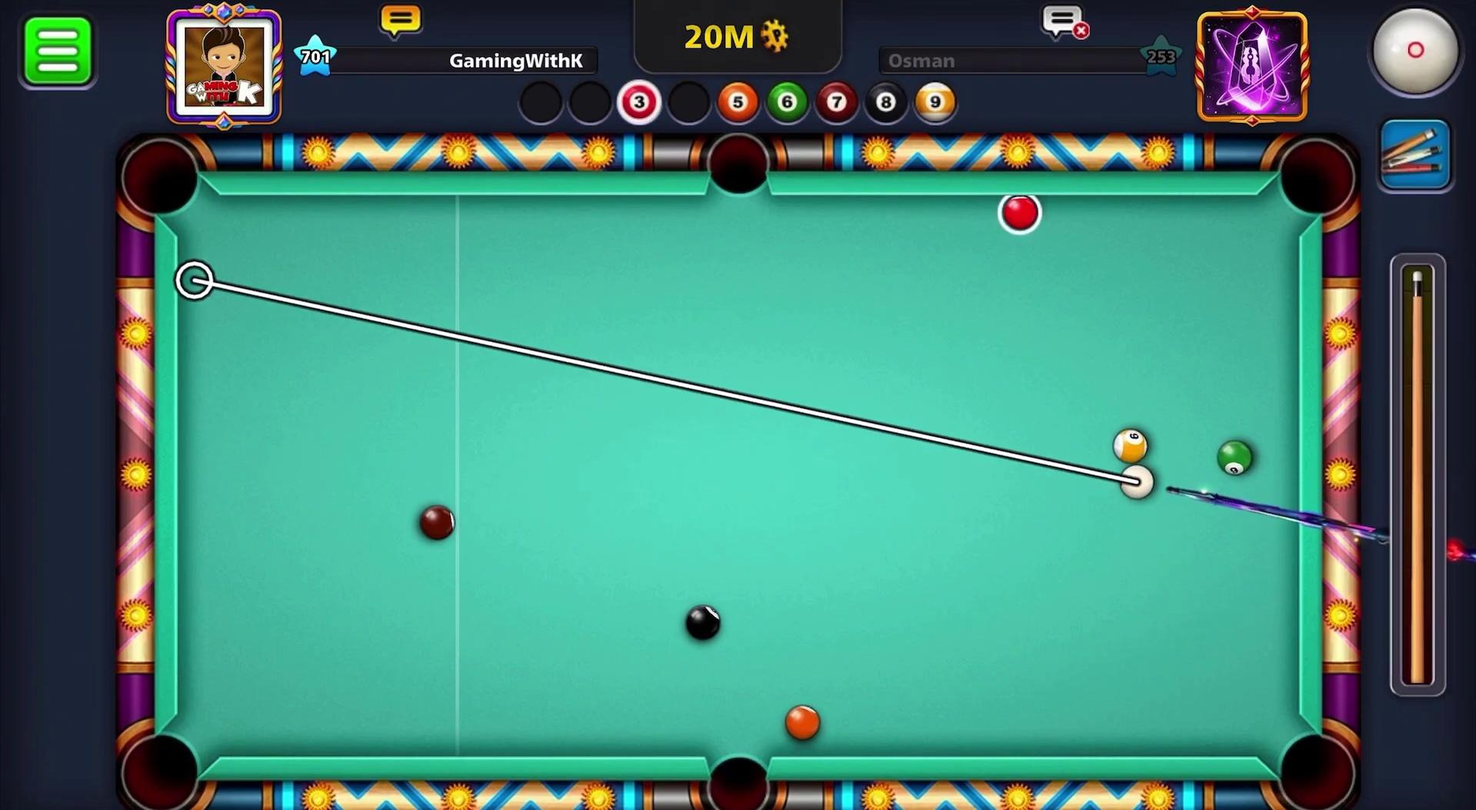Ball: (675, 599, 729, 648), (410, 500, 463, 546), (994, 192, 1043, 234), (776, 701, 825, 743), (1110, 423, 1154, 466), (1216, 437, 1258, 476)
Force: (1386, 251, 1453, 699)
Guideline: (175, 261, 1151, 490)
Hole: (104, 125, 224, 235), (1269, 130, 1365, 231), (1265, 719, 1364, 809), (114, 725, 206, 809), (688, 736, 784, 809), (696, 124, 782, 205)
Play_Area: (175, 192, 1291, 759)
Spin: (1347, 0, 1475, 112)
White: (1114, 460, 1164, 506)
